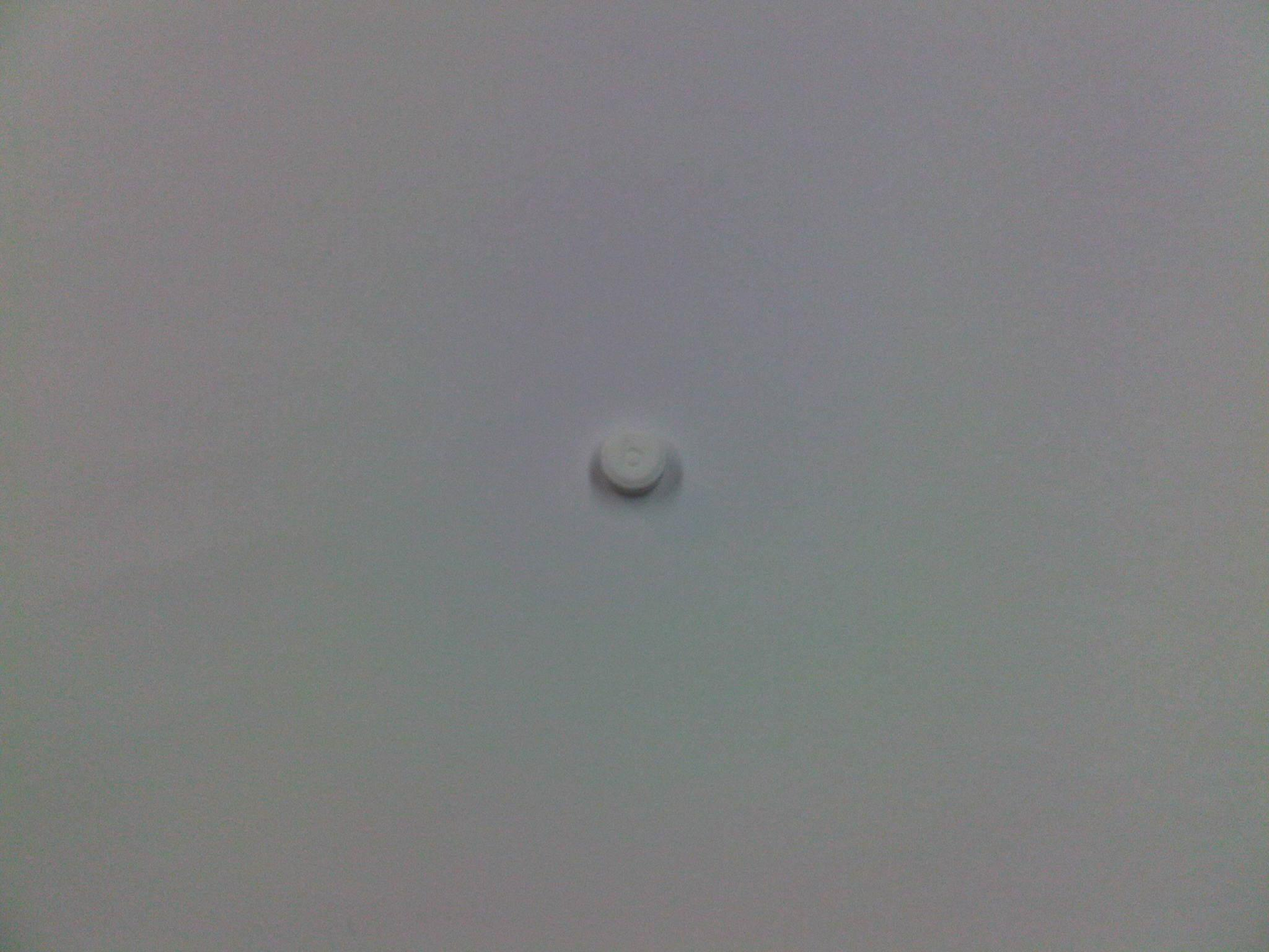Pill: (587, 417, 683, 505)
